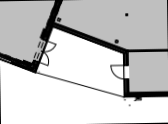door: (109, 63, 124, 81)
double door: (39, 39, 58, 69)
wall: (53, 14, 128, 55), (0, 50, 45, 79), (38, 0, 70, 40), (129, 89, 168, 100), (127, 47, 167, 54), (120, 77, 132, 100), (122, 52, 130, 66)
